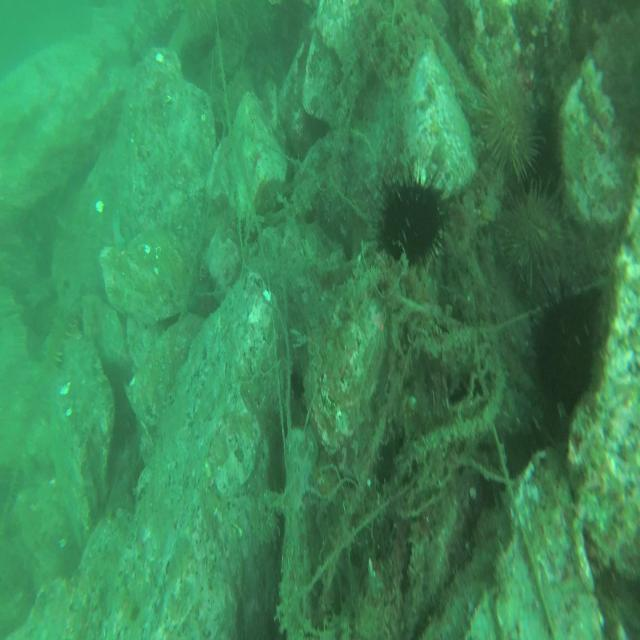echinus: (488, 171, 603, 305), (468, 68, 547, 191), (529, 281, 608, 402), (374, 162, 450, 268), (221, 69, 254, 122), (183, 0, 223, 32)
holothurian: (40, 305, 76, 381)
